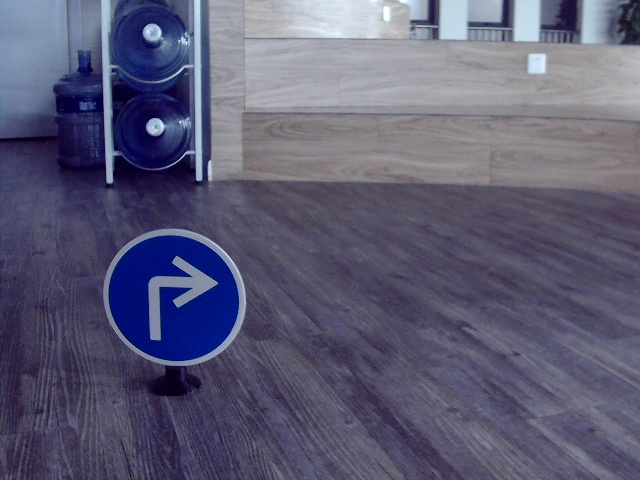turn_right: (141, 248, 221, 343)
